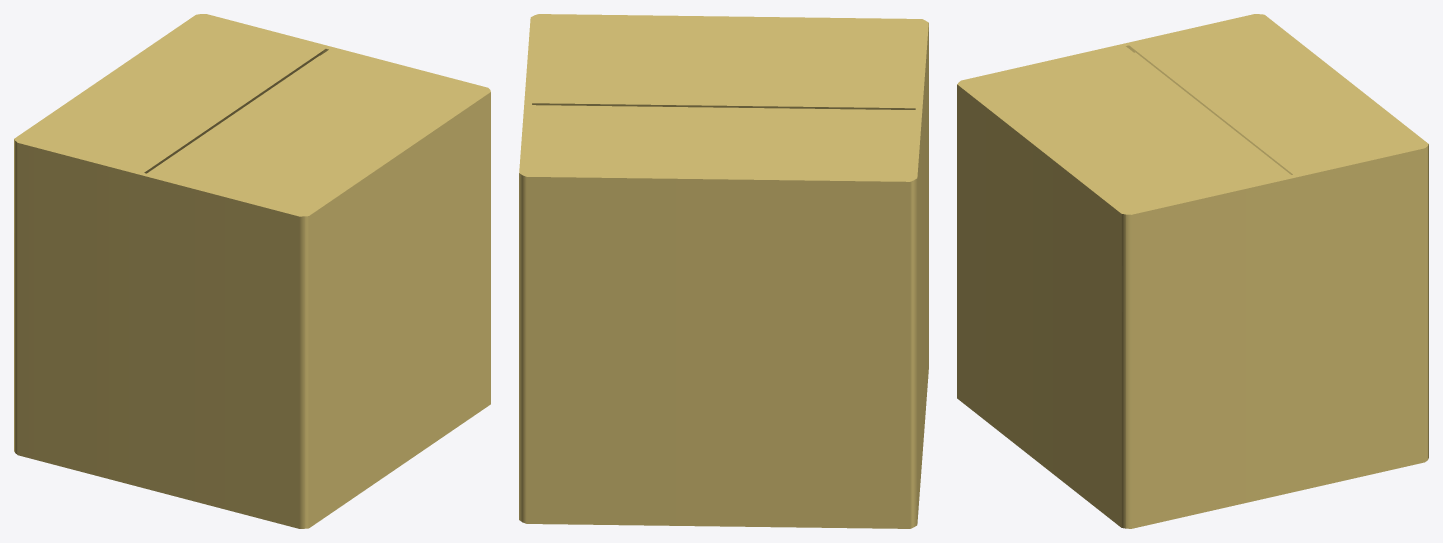
Rendered from ZG_Proxy_Box2.fbx.
The picture shows the model from 3 angles, left to right: view 1: azimuth 30°, elevation 25°; view 2: azimuth 150°, elevation 25°; view 3: azimuth 270°, elevation 25°; orthographic projection. The views are drawn at different scales.
Parts seen in each view (by area): view 1: Cardboard3; view 2: Cardboard3; view 3: Cardboard3.
Boxes of the visible parts, x1,y1,x2,y2 form: Cardboard3: (14,14,490,528); Cardboard3: (519,14,928,528); Cardboard3: (957,14,1428,528).
Bounding box in the file's own units: 173 × 126 × 172.
